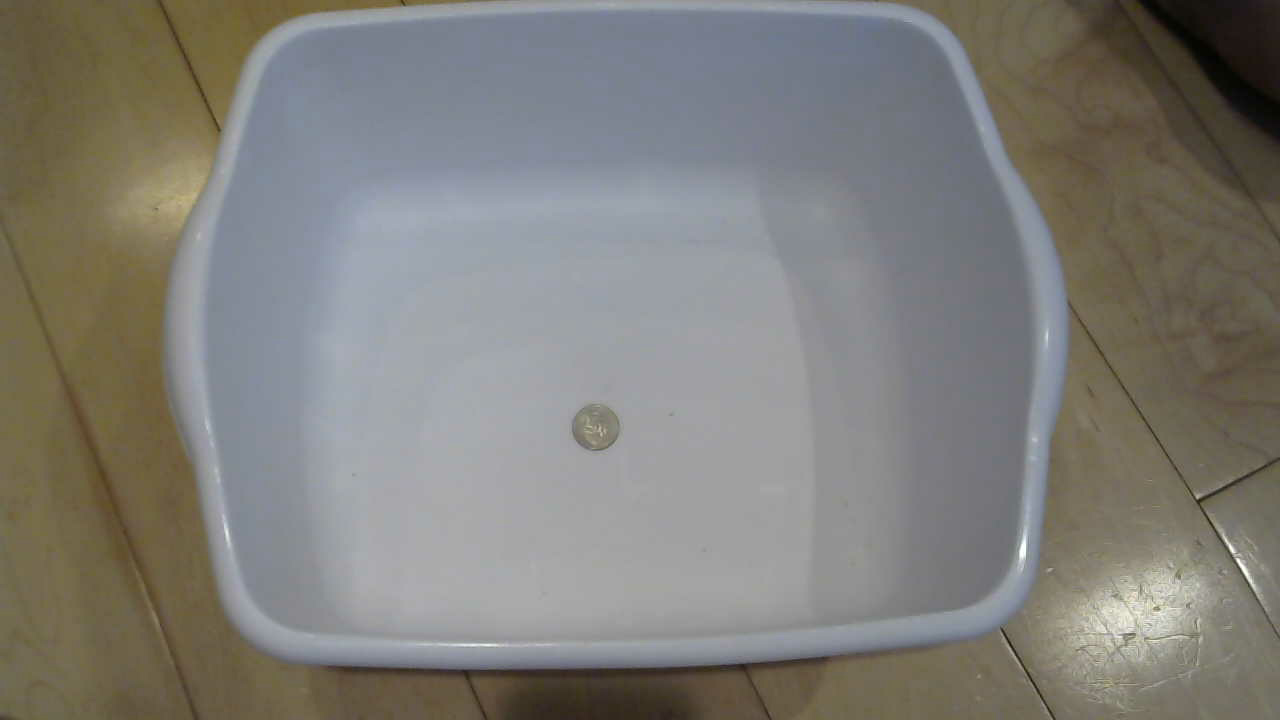coin: (562, 398, 642, 470)
